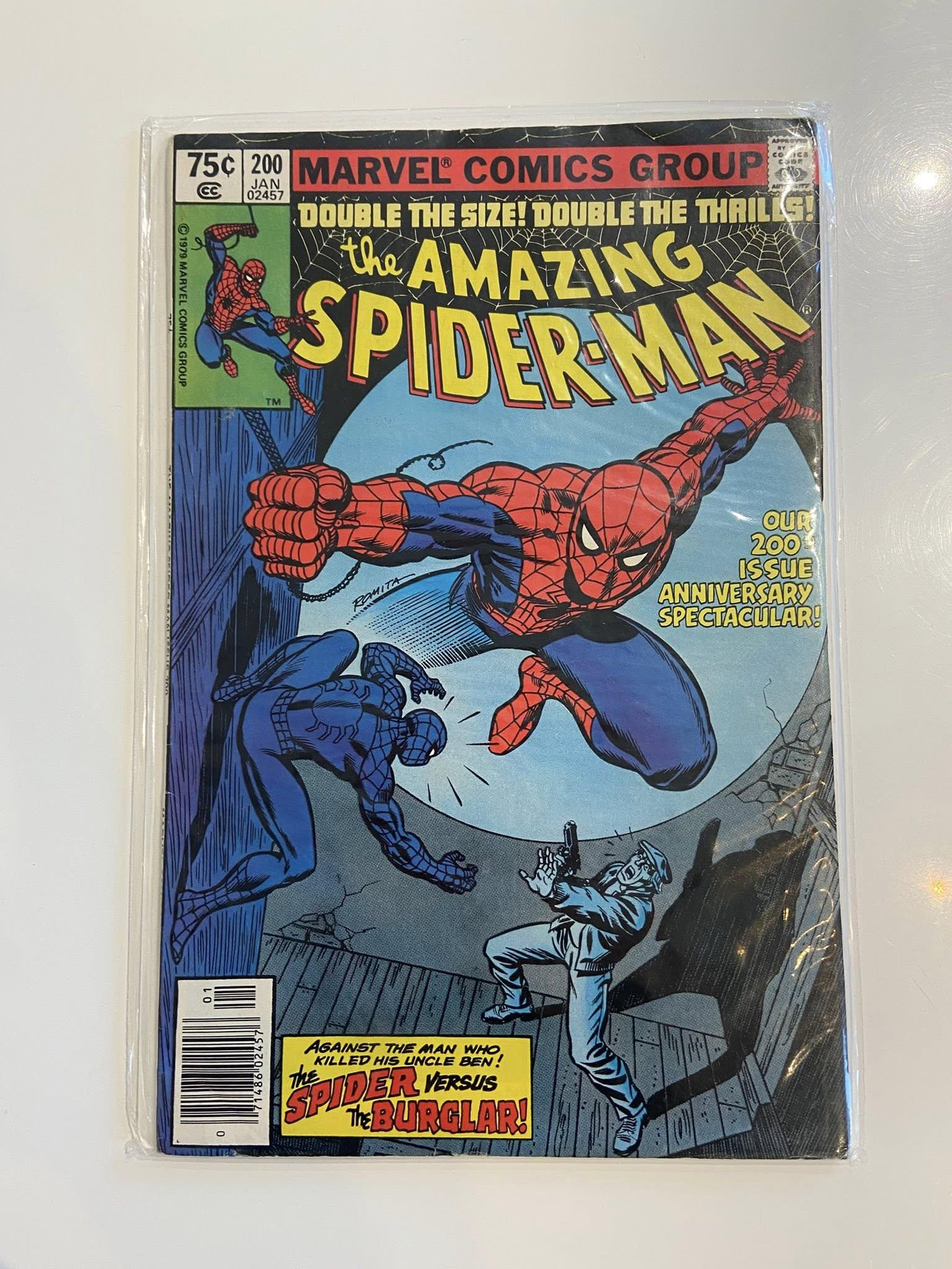comic: (129, 116, 850, 1175)
